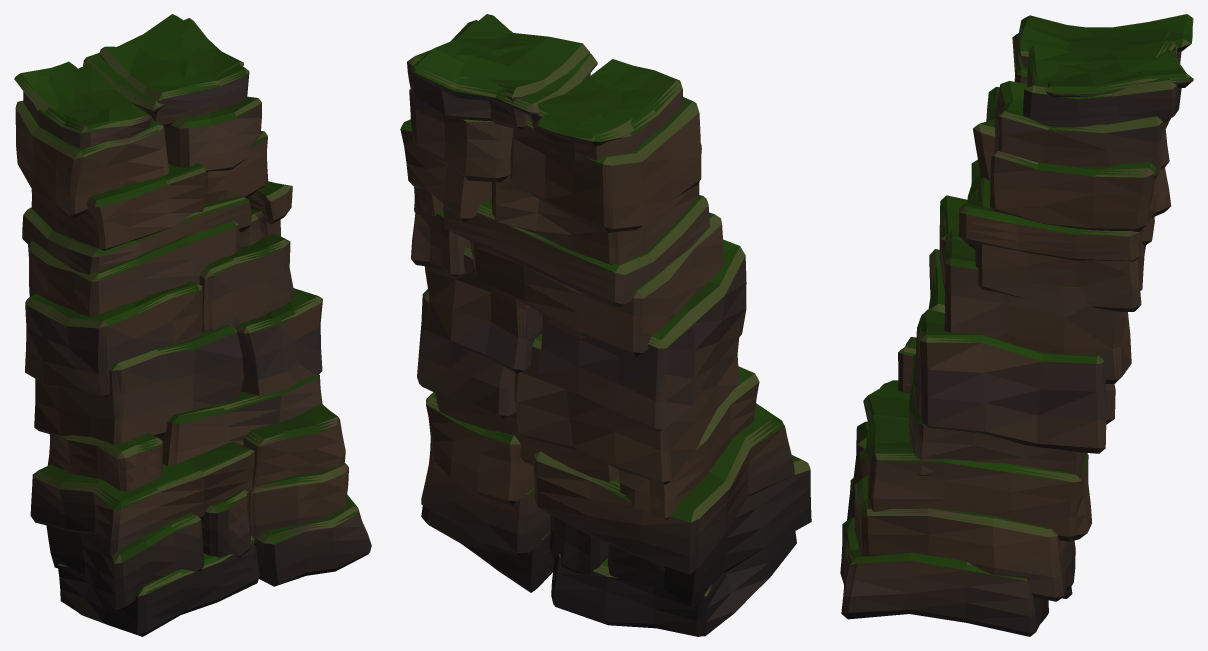
Rendered from cliff_strata_tall.glb.
3 renders of one model, left to right at view 1: azimuth 30°, elevation 25°; view 2: azimuth 150°, elevation 25°; view 3: azimuth 270°, elevation 25°, orthographic. The views are drawn at different scales.
Parts seen in each view (by area): view 1: cliff_strata_tall; view 2: cliff_strata_tall; view 3: cliff_strata_tall.
Boxes of the visible parts, left/top/right/bottom form: cliff_strata_tall: left=14, top=14, right=371, bottom=636; cliff_strata_tall: left=400, top=14, right=811, bottom=636; cliff_strata_tall: left=840, top=14, right=1193, bottom=636.
Size of the model in its own units: 5.61 by 10.24 by 5.68.
